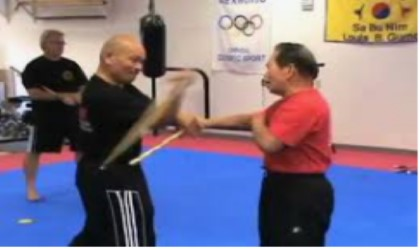baston_e: (139, 130, 178, 163)
baston_v: (124, 158, 139, 168), (97, 162, 109, 172), (7, 64, 13, 70)
